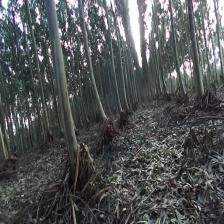trunk: (46, 10, 80, 165), (80, 16, 108, 122), (188, 4, 206, 96), (169, 5, 187, 96), (108, 27, 124, 117)
